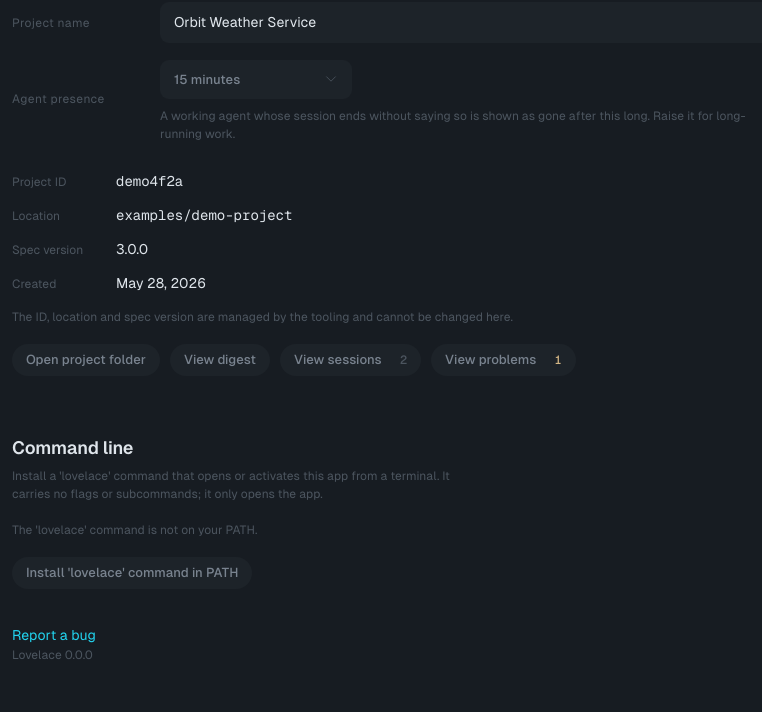
Test: GeneralSettings command line › install rejection renders the error inline without throwing
The image size is (762, 712).
Click the button "Install 'lovelace' command in PATH": x=132, y=573 [12,557,252,589]
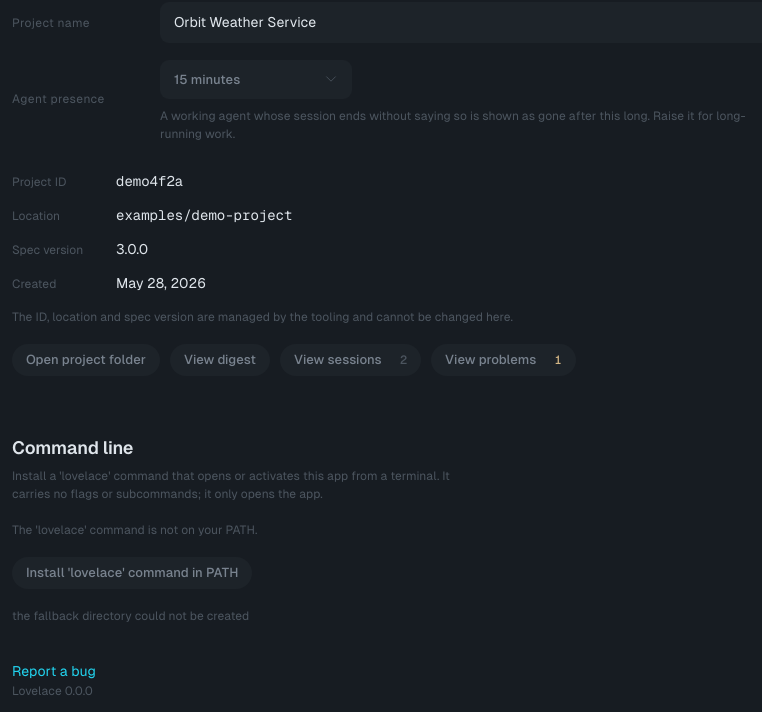
expect the text "the fallback directory could not be created" is shown: met, box [12,609,249,623]
